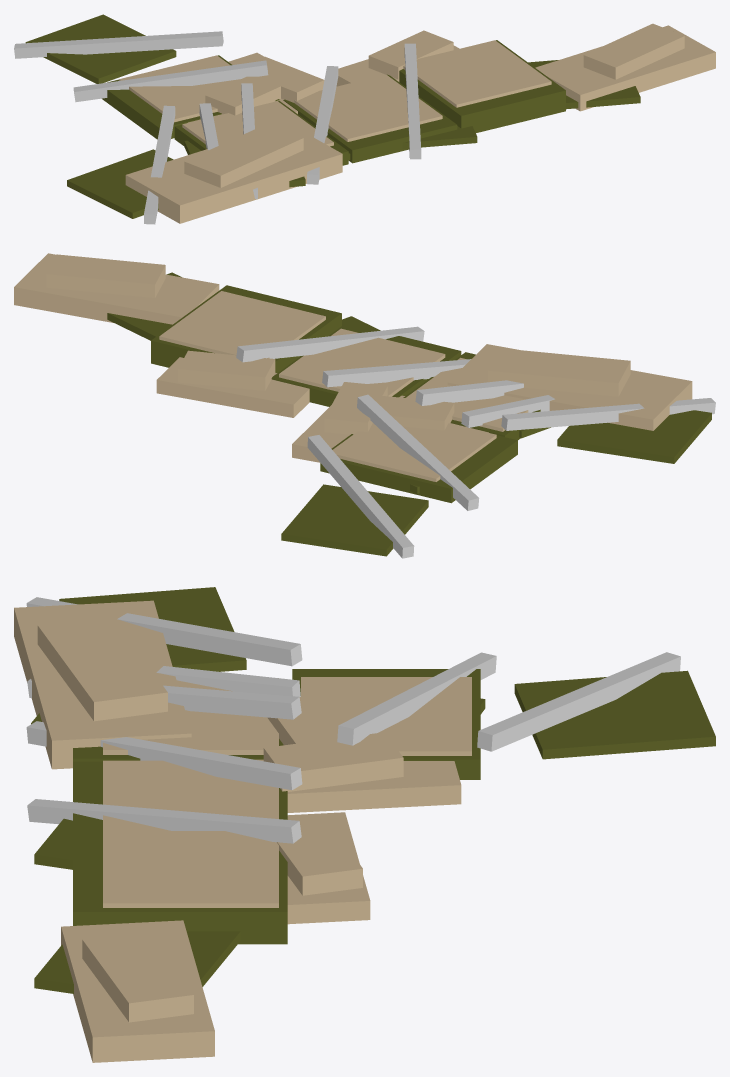
Rendered from SM_HescoRemate_v1_Geotextil_e3_Brecha_LOD1.fbx.
The picture shows the model from 3 angles, top to bottom: view 1: azimuth 30°, elevation 25°; view 2: azimuth 150°, elevation 25°; view 3: azimuth 270°, elevation 25°; orthographic projection. The views are drawn at different scales.
Parts seen in each view (by area): view 1: SM_hesco_piezas_v27_LOD1; view 2: SM_hesco_piezas_v27_LOD1; view 3: SM_hesco_piezas_v27_LOD1.
Part boxes in pixels (<box>): SM_hesco_piezas_v27_LOD1: <box>14,14,715,224</box>; SM_hesco_piezas_v27_LOD1: <box>14,253,715,558</box>; SM_hesco_piezas_v27_LOD1: <box>14,587,715,1062</box>.
Bounding box in the file's own units: 6.23 × 0.351 × 3.99.
